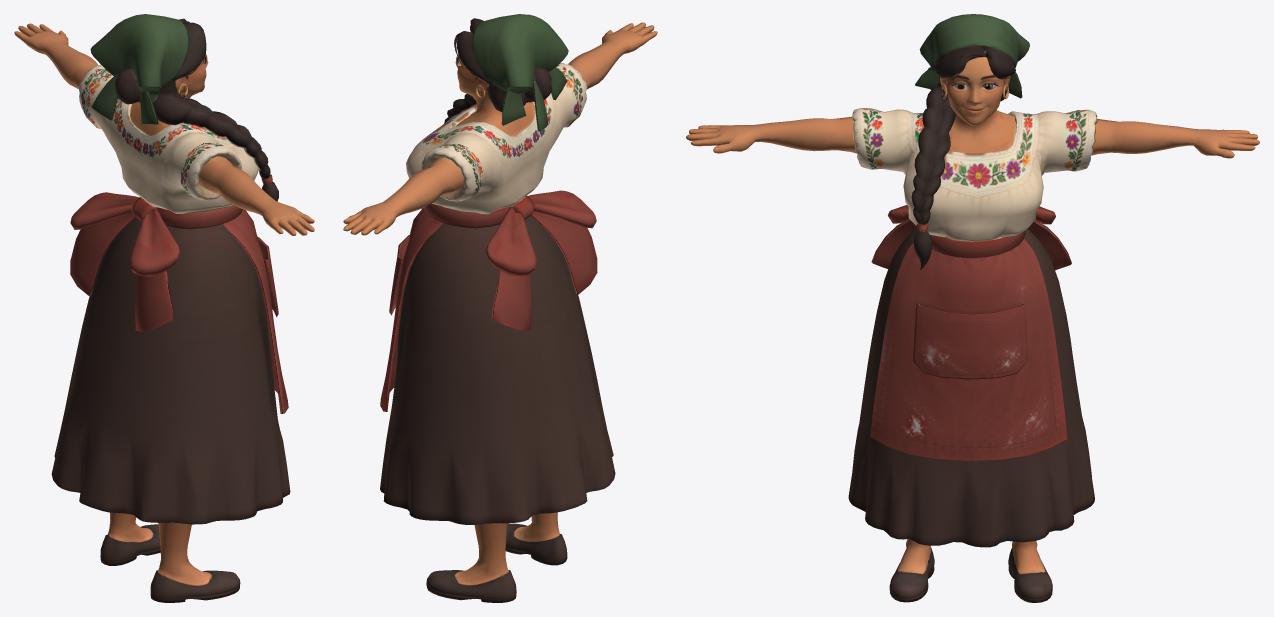
The model's file is tripo_convert_a19aebb3-7982-4273-82e9-caa5480f0626.glb.
3 views of the same model, side by side, from view 1: azimuth 30°, elevation 25°; view 2: azimuth 150°, elevation 25°; view 3: azimuth 270°, elevation 25° (orthographic).
Visible parts, largest first — view 1: tripo_node_a19aebb3-7982-4273-82e9-caa5480f0626; view 2: tripo_node_a19aebb3-7982-4273-82e9-caa5480f0626; view 3: tripo_node_a19aebb3-7982-4273-82e9-caa5480f0626.
Part boxes in pixels (<box>): tripo_node_a19aebb3-7982-4273-82e9-caa5480f0626: <box>14,14,314,602</box>; tripo_node_a19aebb3-7982-4273-82e9-caa5480f0626: <box>343,14,657,602</box>; tripo_node_a19aebb3-7982-4273-82e9-caa5480f0626: <box>686,14,1259,602</box>.
Size of the model in its own units: 0.3667 by 0.9995 by 0.9282.
1 material, 1 textured.
